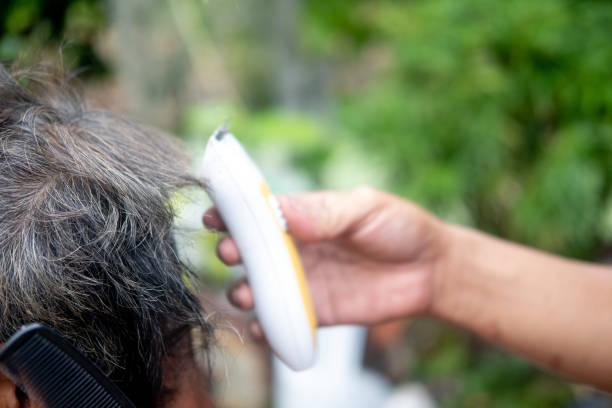grey hair: (36, 248, 91, 264)
low hair density: (22, 174, 63, 201), (41, 119, 81, 135)
